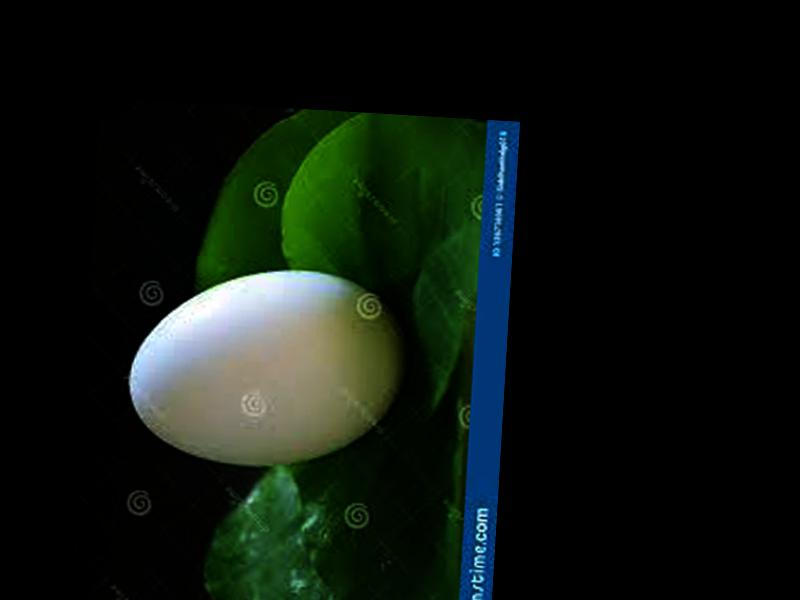Eggs: (123, 260, 410, 475)
